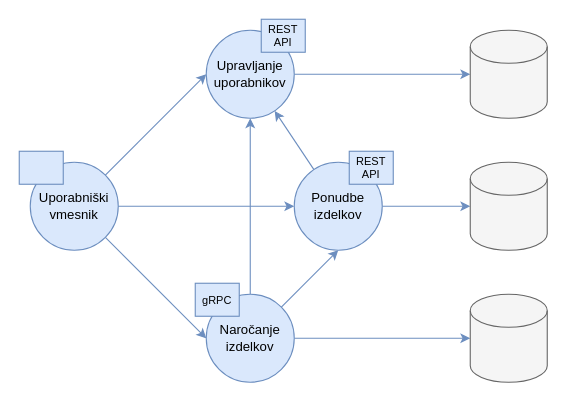
Image size: 567x402. Some labels were removed from this diagram. Each missing label, with the centre of its shape:
"PB izdelki" goes at point (508, 205).
"PB naročila" goes at point (508, 337).
"PB uporabniki" goes at point (508, 73).
"WEB" goes at point (40, 167).
